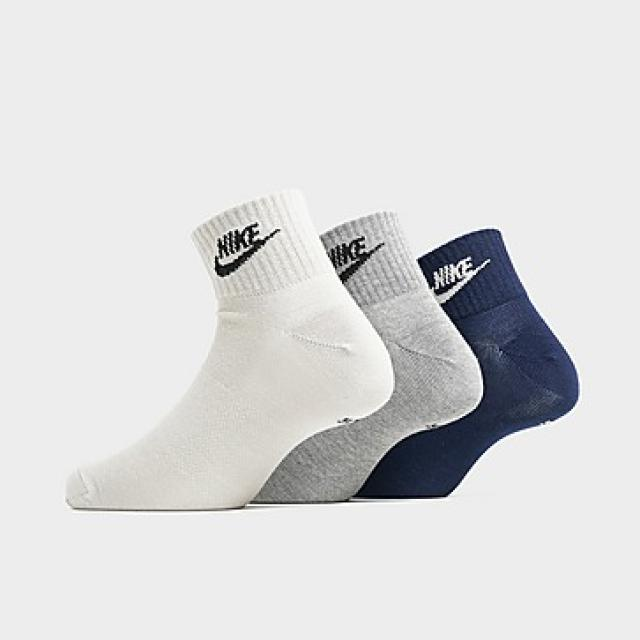sock: (63, 187, 395, 511), (247, 208, 483, 503), (348, 226, 578, 499)
